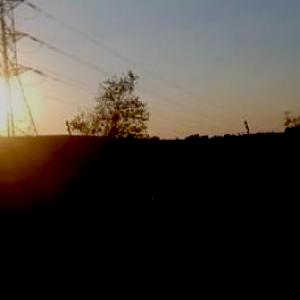follow: (120, 140, 210, 299)
